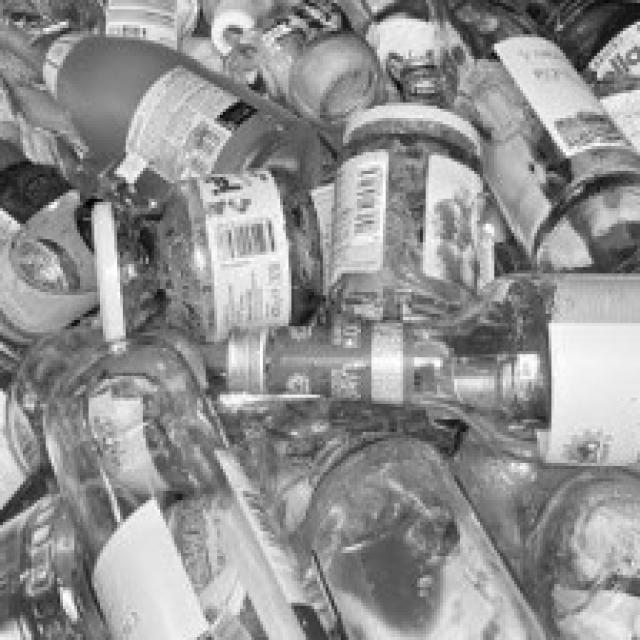electronic: (50, 336, 304, 640), (0, 1, 324, 198), (297, 433, 577, 640), (429, 0, 640, 270), (318, 97, 488, 331), (193, 318, 551, 428), (152, 171, 336, 336)
